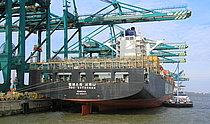Ship: (31, 29, 180, 116)
